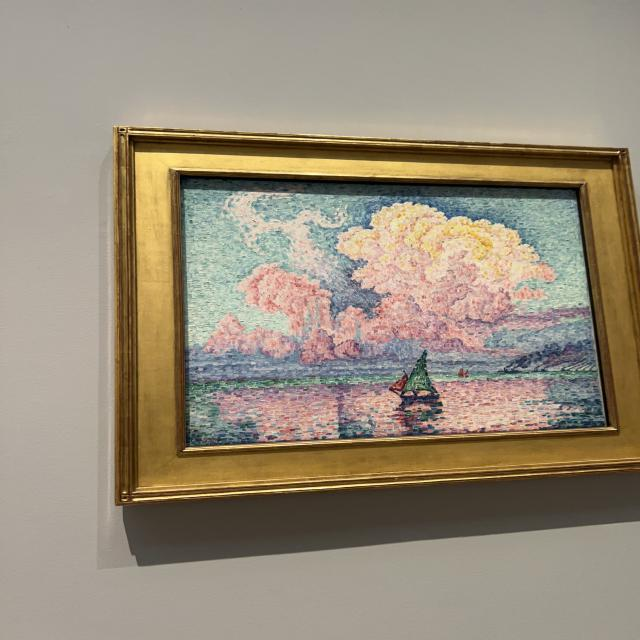sunrise: (180, 176, 608, 447)
